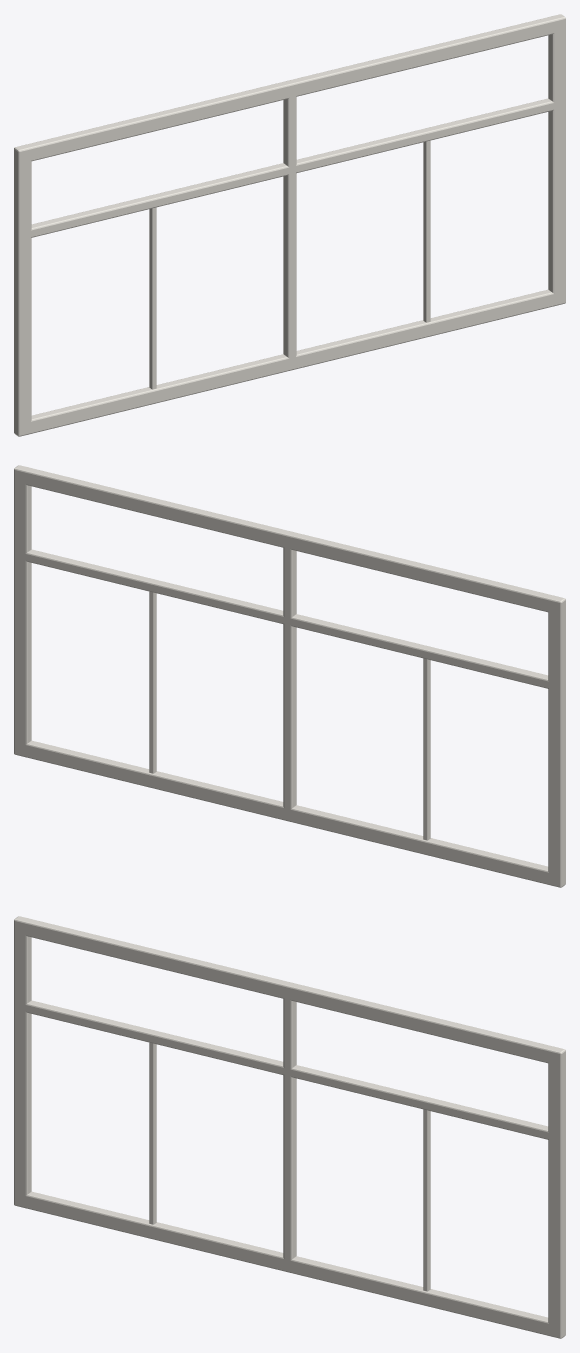
File: window_frame.glb
3 views of the same model, one above another, from view 1: azimuth 30°, elevation 25°; view 2: azimuth 150°, elevation 25°; view 3: azimuth 330°, elevation 25° (orthographic).
Parts seen in each view (by area): view 1: window_frame; view 2: window_frame; view 3: window_frame.
Boxes of the visible parts, x1,y1,x2,y2 form: window_frame: (14, 14, 565, 436); window_frame: (14, 465, 565, 887); window_frame: (14, 916, 565, 1338).
Size of the model in its own units: 120 by 60 by 2.
Materials: 1 (1 with a texture image).
